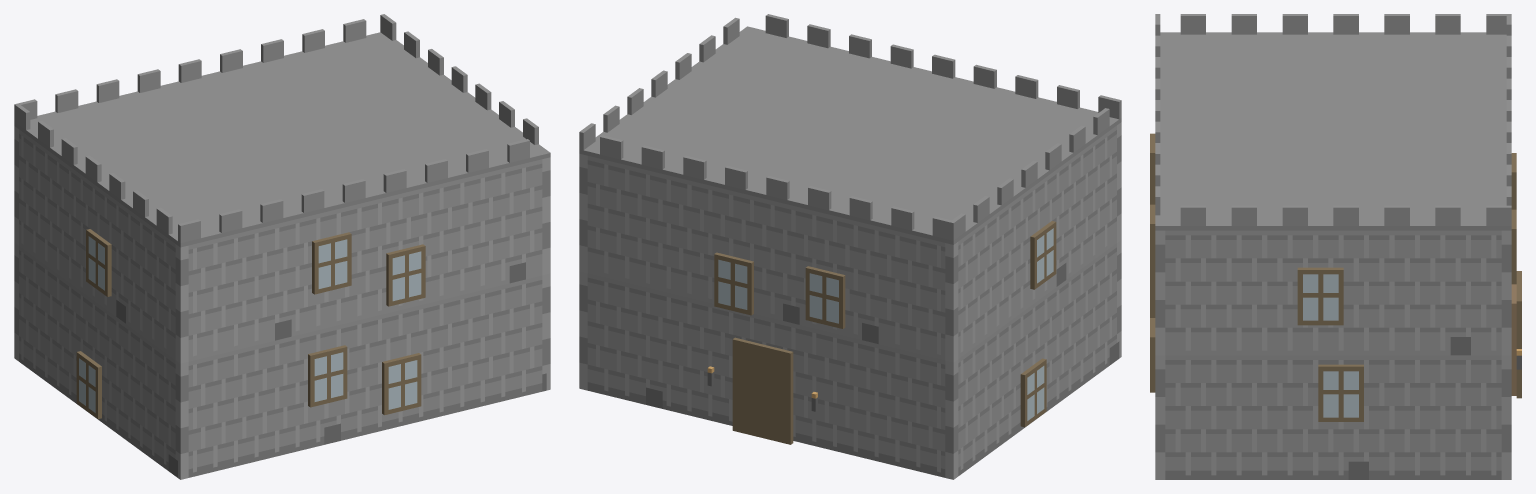
Rendered from cuartel_guardia_comunal_03.glb.
The picture shows the model from 3 angles, left to right: view 1: azimuth 30°, elevation 25°; view 2: azimuth 150°, elevation 25°; view 3: azimuth 270°, elevation 25°; orthographic projection. The views are drawn at different scales.
Parts seen in each view (by area): view 1: cuartel_guardia_comunal_03; view 2: cuartel_guardia_comunal_03; view 3: cuartel_guardia_comunal_03.
Part boxes in pixels (x1,y1,x2,y2): cuartel_guardia_comunal_03: (14, 14, 550, 479); cuartel_guardia_comunal_03: (579, 14, 1121, 479); cuartel_guardia_comunal_03: (1150, 14, 1521, 479).
Size of the model in its own units: 9.2 by 5.9 by 7.3.
